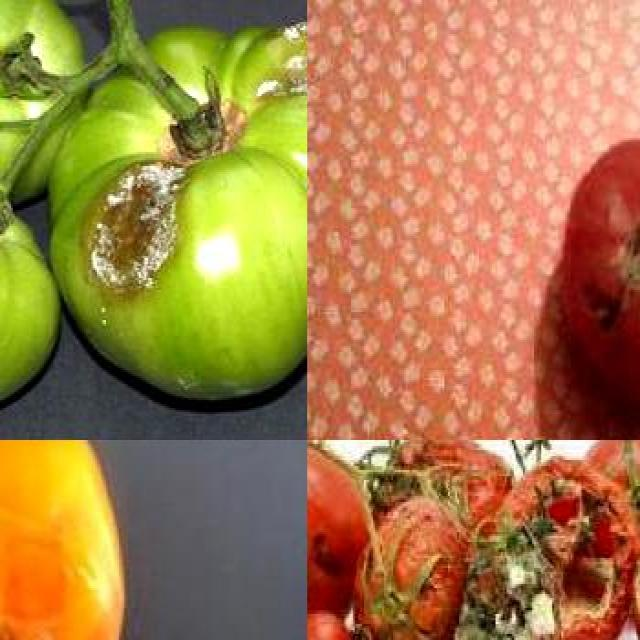Rotten_Tomato: (48, 18, 307, 410), (486, 450, 634, 640), (0, 440, 130, 640), (552, 128, 640, 418), (0, 174, 104, 418), (348, 492, 476, 640), (307, 440, 384, 640), (454, 544, 568, 640)
